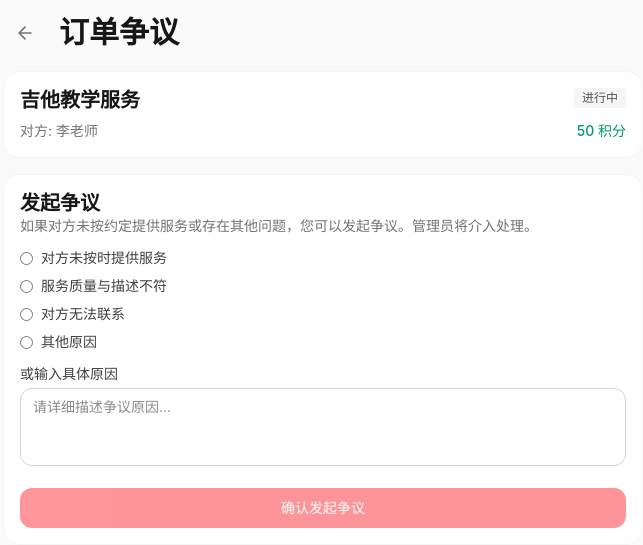
Scenario: SkillExchange/Dispute 订单争议 › 提交成功显示"争议已提交"成功卡片，含"返回订单列表"和"查看详情"按钮
Expected: the heading "发起争议" is shown, [20,191,100,215]
# 选择预设原因并提交
Click the radio button labelled "对方未按时提供服务" at [26, 258], box [20,252,33,264]
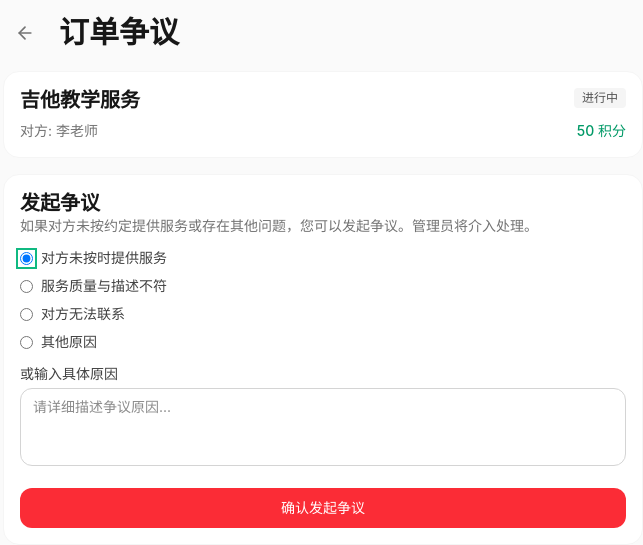
Click the button "确认发起争议" at [323, 508], box [20,488,626,528]
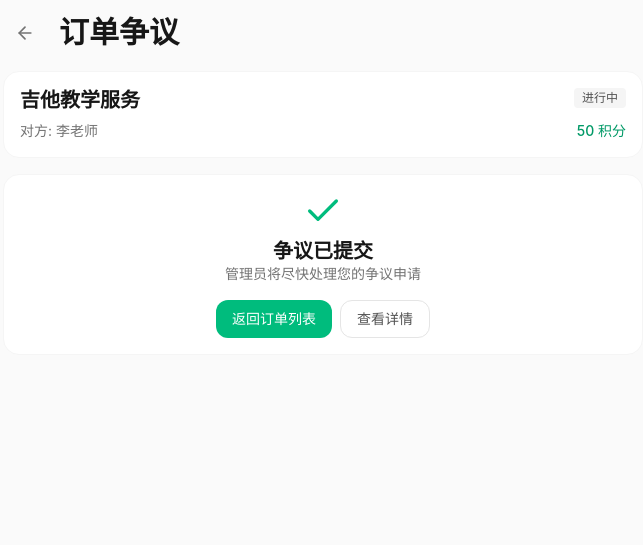
Expected: the heading "争议已提交" is shown, [273,239,373,263]
Expected: the text "管理员将尽快处理您的争议申请" is shown, [225,265,421,282]
Expected: the button "返回订单列表" is shown, [216,300,332,338]
